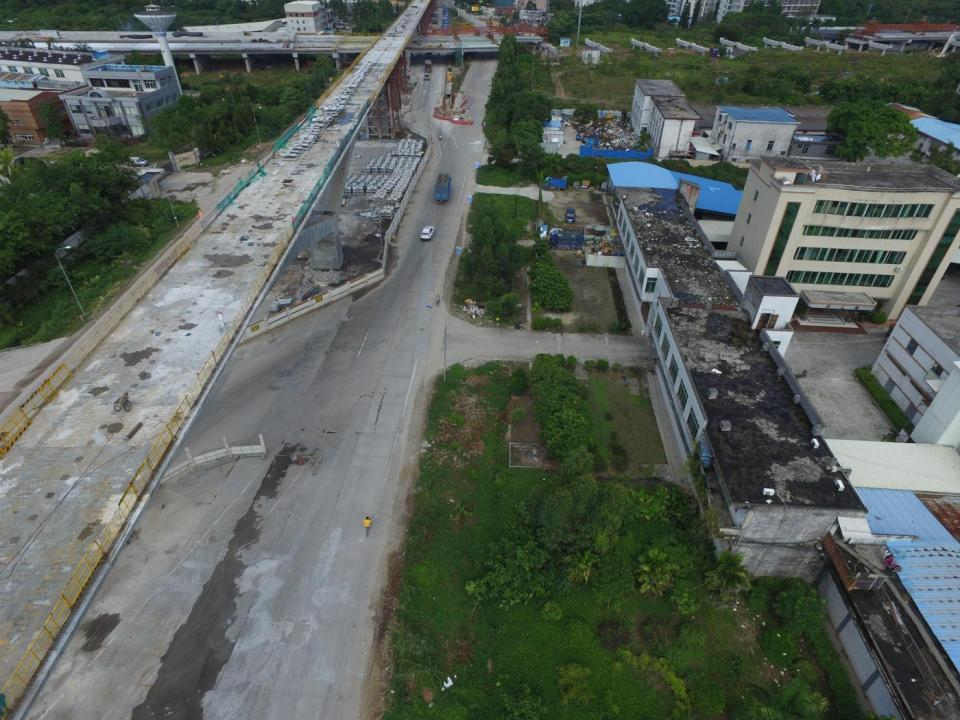car: (420, 226, 434, 240), (565, 209, 575, 222), (582, 136, 589, 142), (424, 73, 430, 80), (576, 134, 581, 140), (453, 115, 458, 121)
truck: (548, 229, 583, 252), (435, 174, 451, 204), (543, 175, 566, 191), (586, 134, 599, 146), (424, 58, 432, 73)
van: (125, 156, 149, 167)
